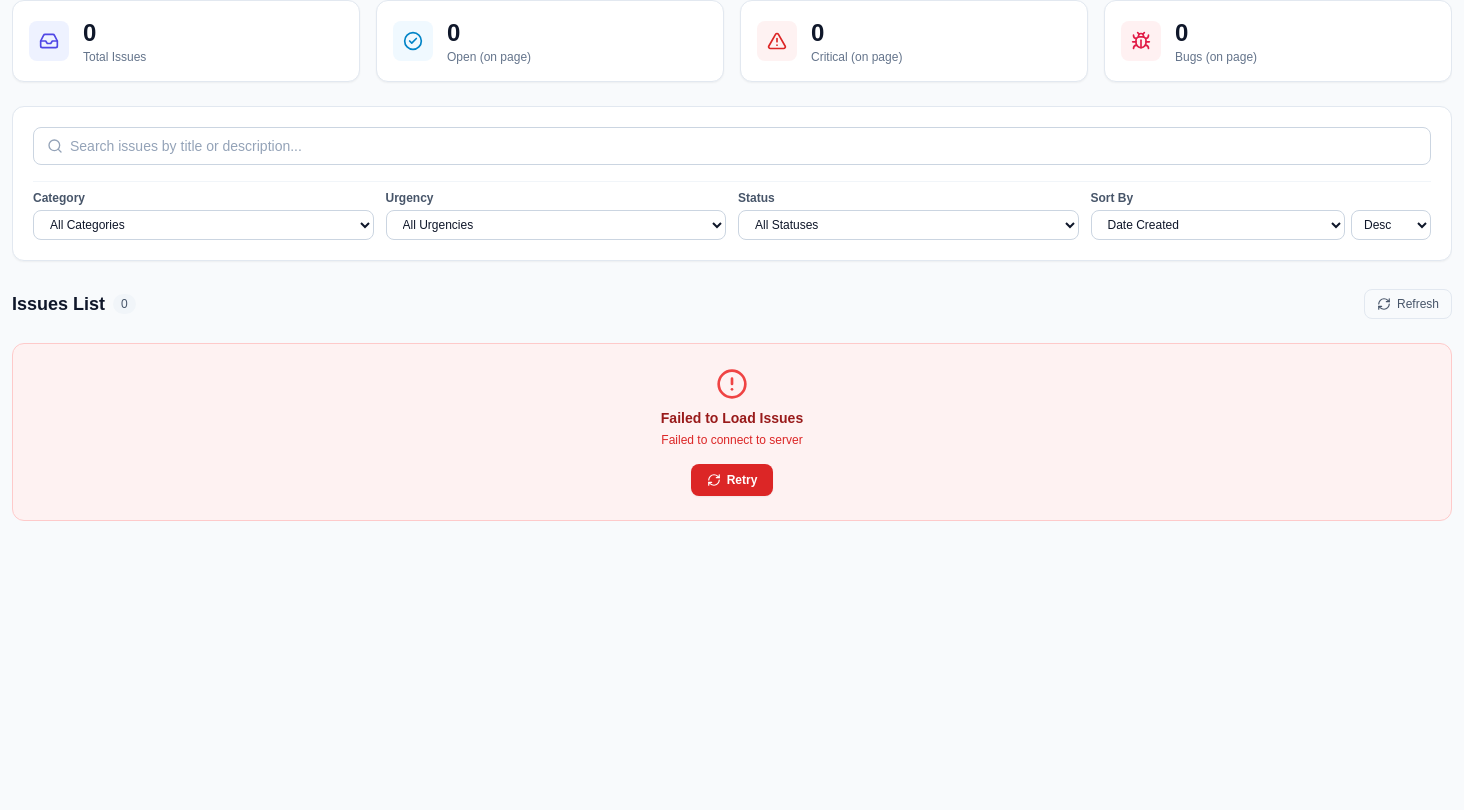
Test: Dashboard Component › handles error state and provides retry button
Expected: the message "Failed to Load Issues Failed to connect to server Retry" is shown, [12,343,1452,521]
Expected: the text "Failed to connect to server" is shown, [661,433,803,447]
What coordinates should you click on to do the following:
click the button with test id "retry-fetch-button"
I would click on:
 (732, 480)
Its box is [691,464,773,496].
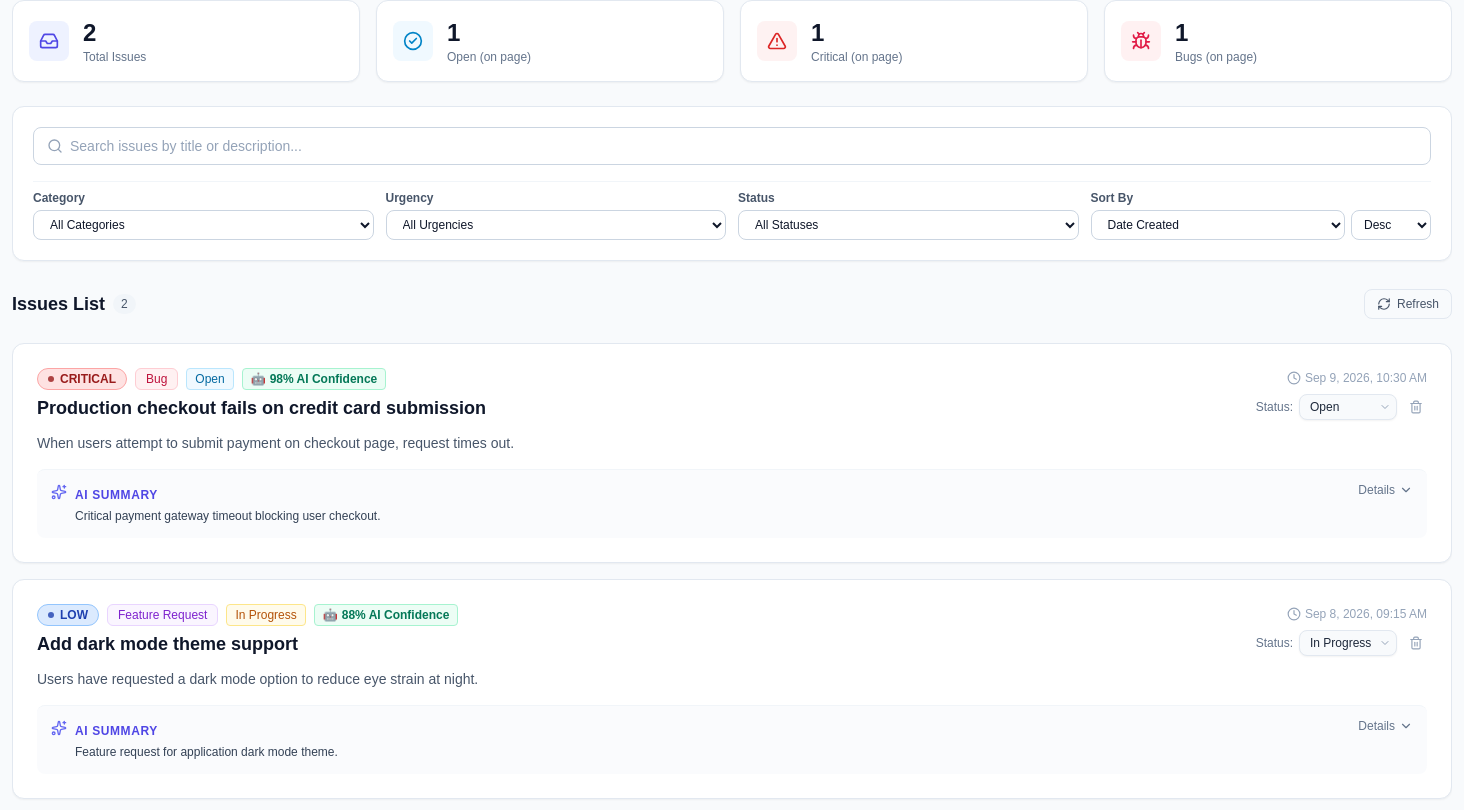
Expected: the heading "Production checkout fails on credit card submission" is shown, [37,396,486,421]
